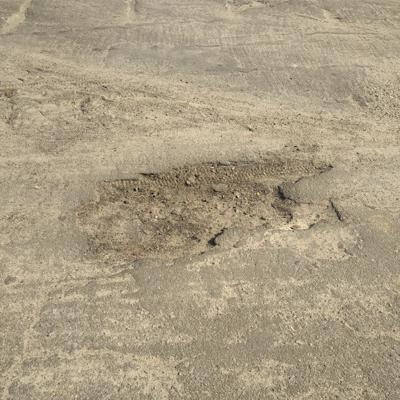Pothole: (82, 159, 392, 264)
